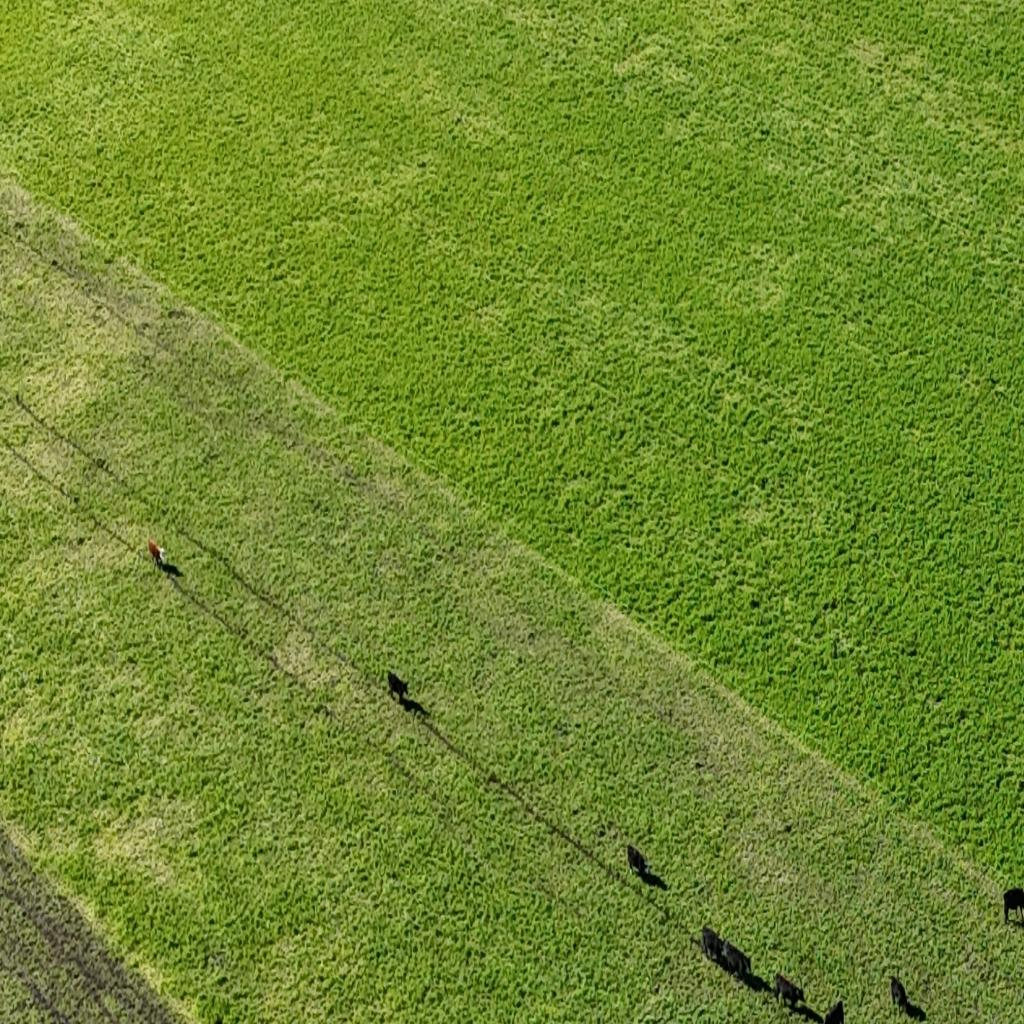cow: (720, 939, 750, 981), (774, 972, 804, 1010), (700, 924, 724, 968), (1002, 887, 1024, 925), (627, 844, 648, 880), (387, 671, 409, 703), (890, 976, 908, 1012), (824, 999, 844, 1024), (149, 539, 166, 568)
